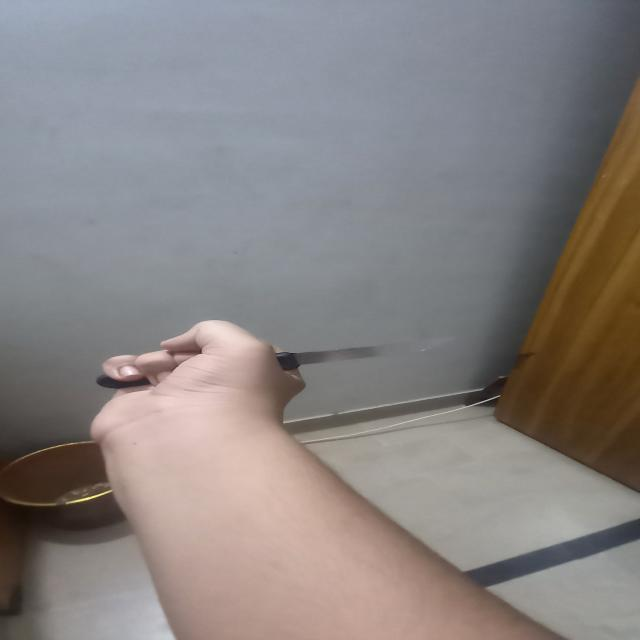Knife: (77, 333, 454, 389)
